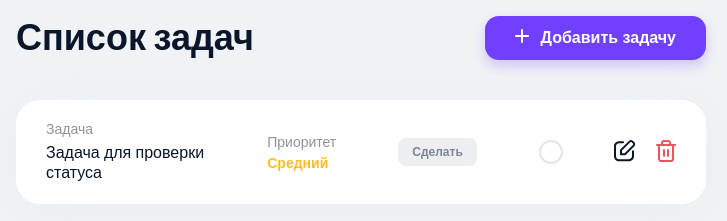
Тесты функционала самого списка задач › Клик по кнопке статуса в карточке должен менять статус задачи на следующий
What coordinates should you click on to do the following:
click the button "Сделать"
I would click on:
 (438, 152)
Its box is [398,138,477,166].
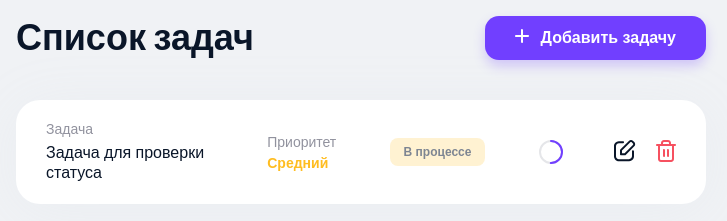
Expected: the button "Сделать" is gone
Expected: the button "В процессе" is shown, [390,138,485,166]
